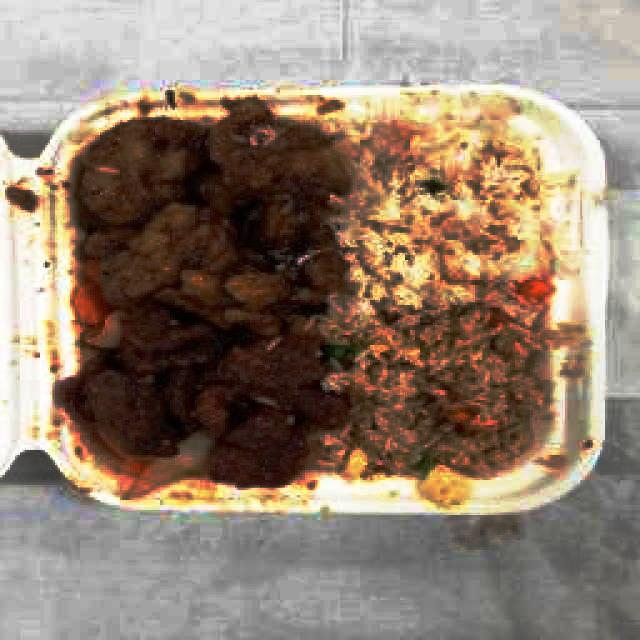Beijing Beef: (83, 302, 316, 479)
Fried Rice: (354, 311, 527, 464)
Kung Pao Chicken: (75, 114, 323, 302)
rice: (343, 138, 547, 286)
